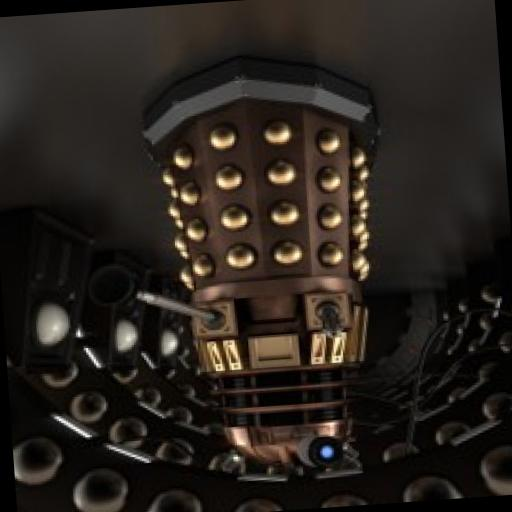dalek: (71, 47, 405, 500)
